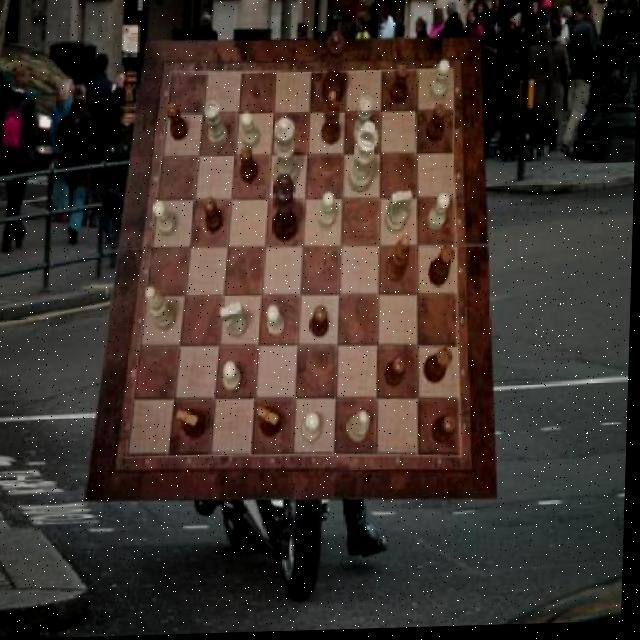bishop: (386, 238, 411, 285), (322, 93, 342, 148)
black-bishop: (273, 176, 299, 244)
black-king: (178, 408, 209, 440), (259, 407, 284, 440)
black-knight: (166, 103, 190, 142), (425, 106, 446, 145), (203, 199, 224, 236), (239, 146, 258, 184), (391, 67, 409, 106), (435, 418, 460, 446), (386, 358, 407, 389), (313, 307, 331, 340)
black-pawn: (320, 32, 345, 108)
black-queen: (430, 247, 457, 290), (425, 349, 455, 386)
black-rook: (146, 288, 179, 332), (349, 412, 373, 445)
white-bishop: (349, 125, 380, 196)
white-king: (386, 192, 414, 235), (221, 304, 250, 340)
white-knight: (427, 195, 450, 232), (154, 202, 178, 237), (430, 63, 450, 104), (318, 194, 337, 232), (242, 113, 260, 151), (268, 307, 286, 340), (225, 362, 244, 393), (304, 415, 322, 445)
white-pawn: (272, 119, 300, 192)
white-queen: (205, 104, 230, 151), (353, 98, 373, 147)
